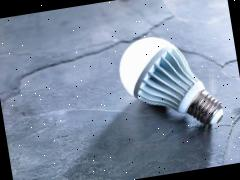lightbulb: (114, 26, 225, 138)
